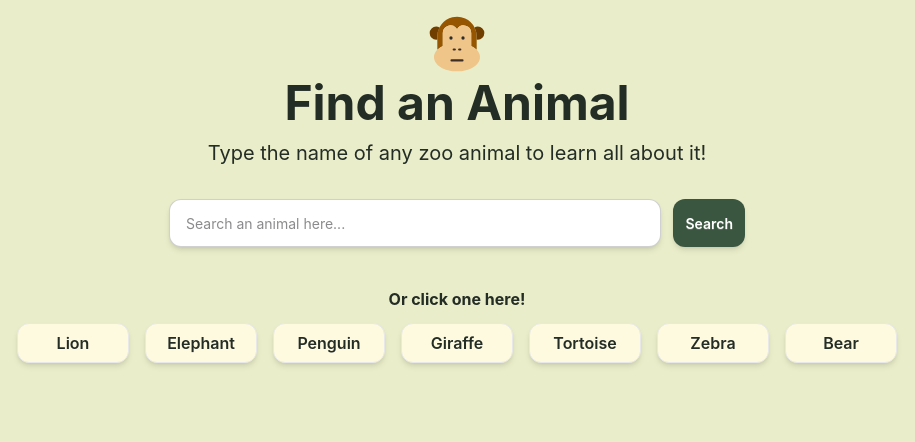
search › shows an error message when the API request fails
Type "bob" into the field with placeholder "Search an animal here...".
click(415, 223); type("bob")  # box [169, 199, 662, 247]
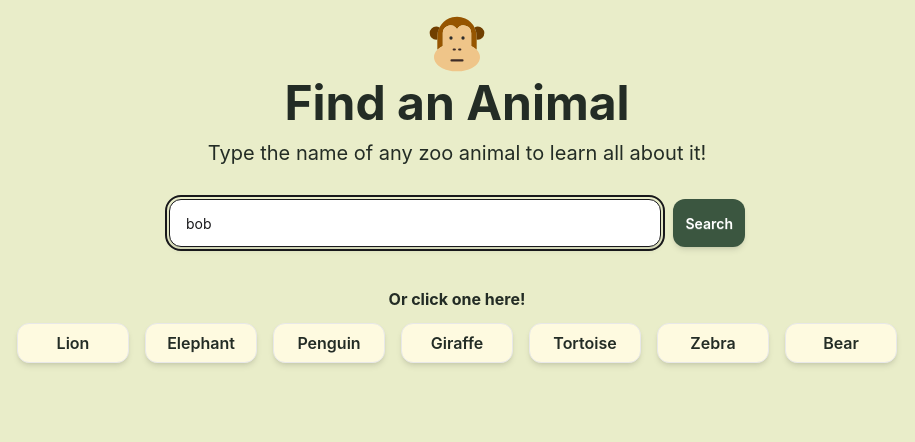
Click the button "Search".
click(709, 223)  # box [674, 199, 745, 247]
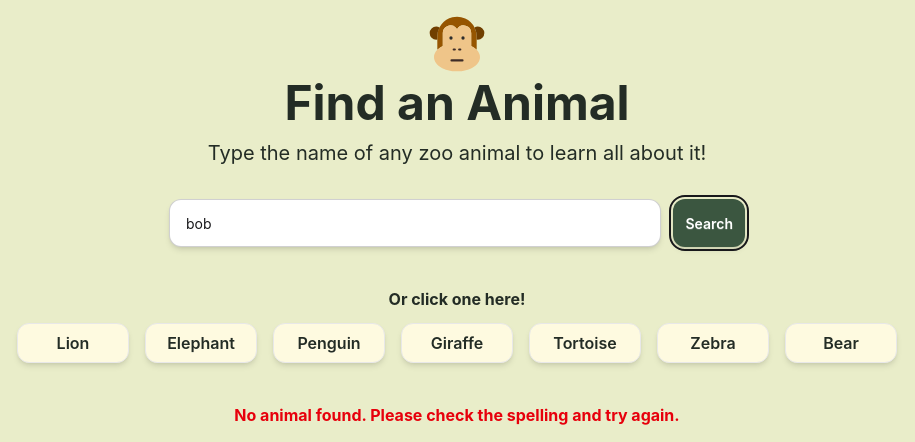
Result: the text "No animal found. Please check the spelling and try again." is shown at [234, 405, 680, 425]
